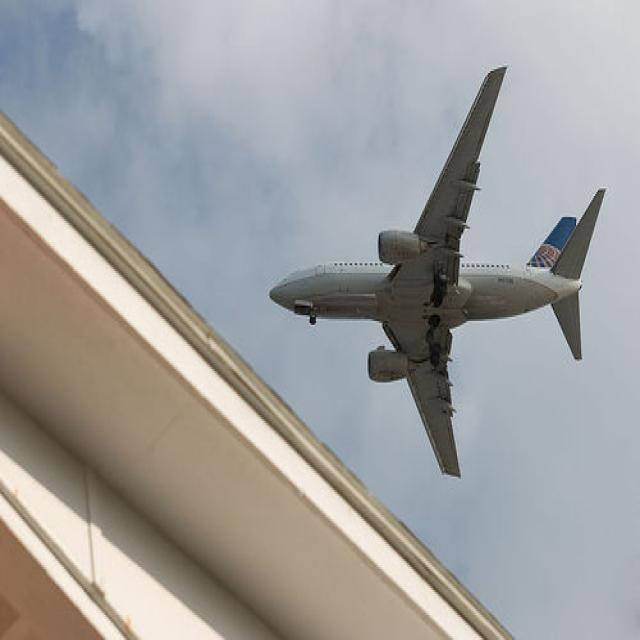aeroplane: (269, 65, 608, 480)
